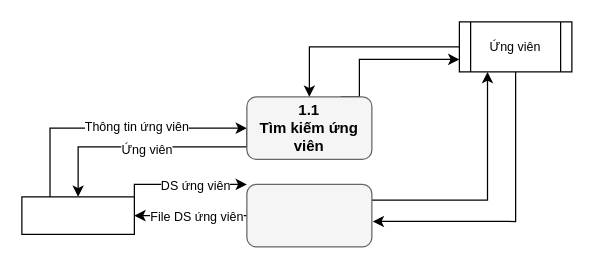
This 594x269 diagram has some shape labels left out. Each missing label, with the centre of its shape:
1.2 In, xuất file danh sách ứng viên: point 309,215
Người quản trị: point 77,215
